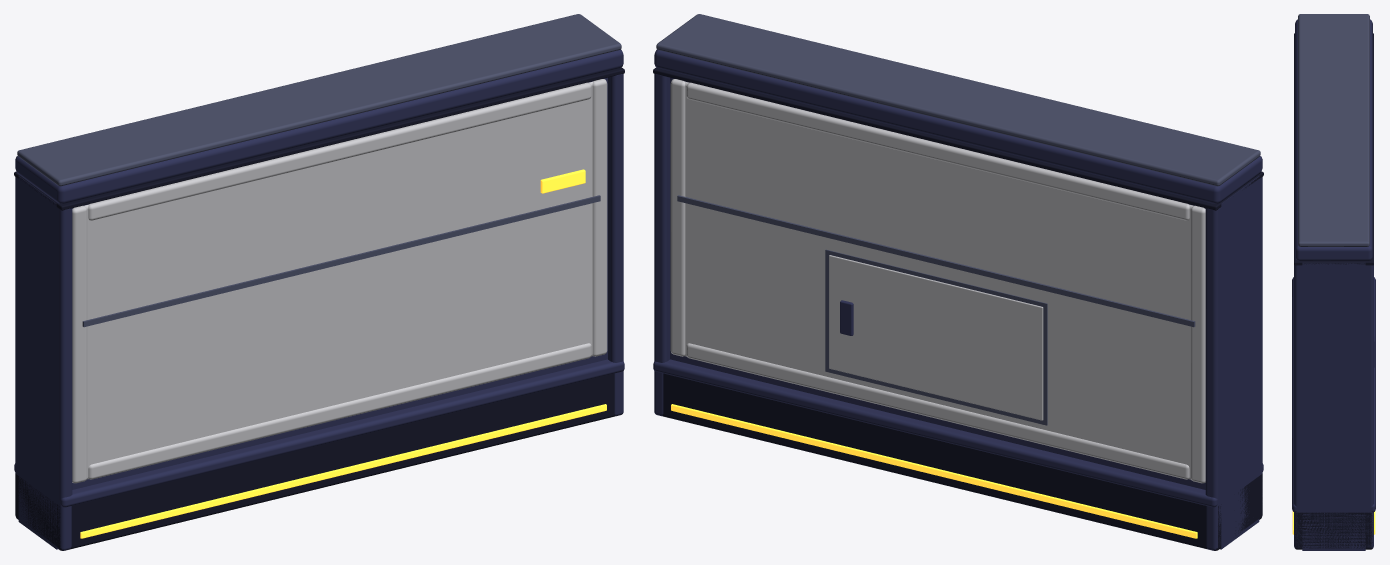
Rendered from int.halfwall.l1.8.glb.
3 views of the same model, side by side, from view 1: azimuth 30°, elevation 25°; view 2: azimuth 150°, elevation 25°; view 3: azimuth 270°, elevation 25° (orthographic). The views are drawn at different scales.
Visible parts, largest first — view 1: int.halfwall.l1.8; view 2: int.halfwall.l1.8; view 3: int.halfwall.l1.8.
Boxes of the visible parts, <box> form: int.halfwall.l1.8: <box>14,14,624,550</box>; int.halfwall.l1.8: <box>653,14,1263,550</box>; int.halfwall.l1.8: <box>1292,14,1375,550</box>.
Size of the model in its own units: 1.81 by 1.13 by 0.278.
